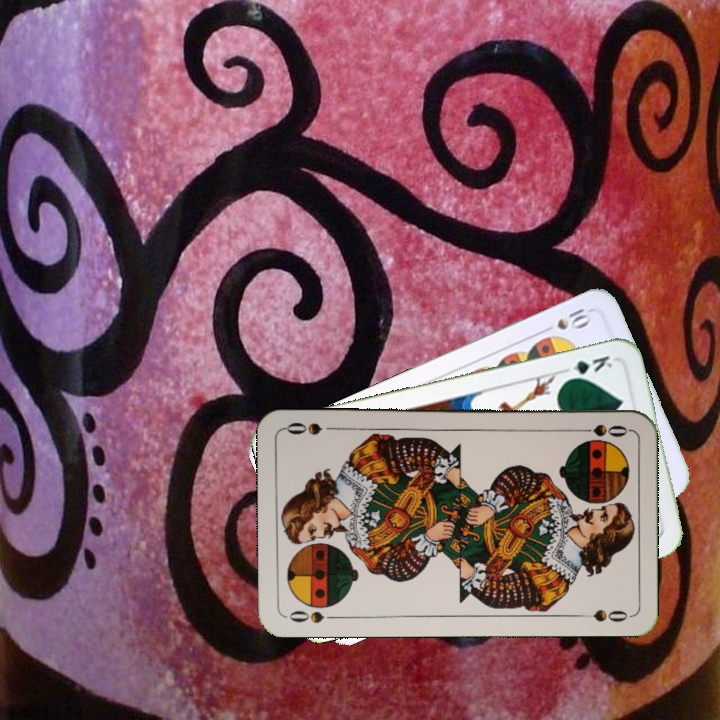GK: (558, 351, 615, 383)
S10: (537, 301, 594, 336)
SO: (572, 420, 631, 440), (285, 607, 341, 626)
